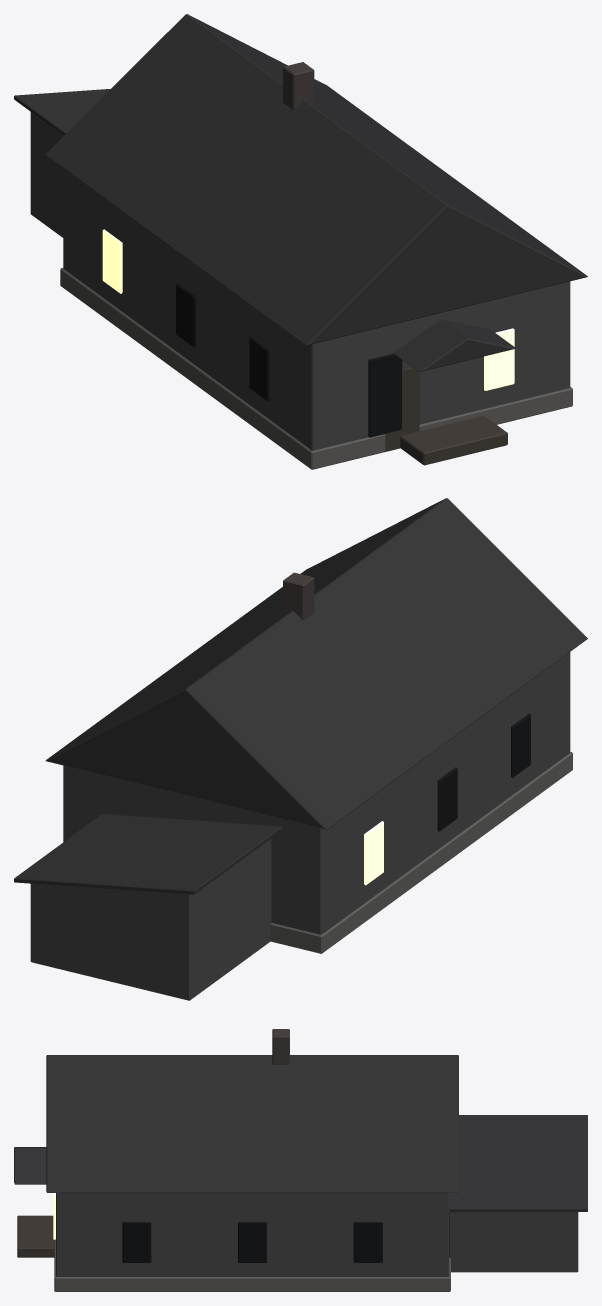
The model's file is tavern.glb.
3 renders of one model, top to bottom at view 1: azimuth 30°, elevation 25°; view 2: azimuth 150°, elevation 25°; view 3: azimuth 270°, elevation 25°, orthographic. The views are drawn at different scales.
Visible parts, largest first — view 1: tavern_body, tavern_rear_shed, tavern_door; view 2: tavern_body, tavern_rear_shed; view 3: tavern_body, tavern_rear_shed.
Part boxes in pixels (left/top/right/bottom): tavern_body: left=45, top=14, right=587, bottom=469; tavern_rear_shed: left=14, top=89, right=110, bottom=237; tavern_door: left=385, top=367, right=419, bottom=451; tavern_body: left=45, top=498, right=587, bottom=953; tavern_rear_shed: left=14, top=814, right=282, bottom=1000; tavern_body: left=14, top=1029, right=458, bottom=1291; tavern_rear_shed: left=449, top=1115, right=587, bottom=1272.
Size of the model in its own units: 7.95 by 7.16 by 17.8.
